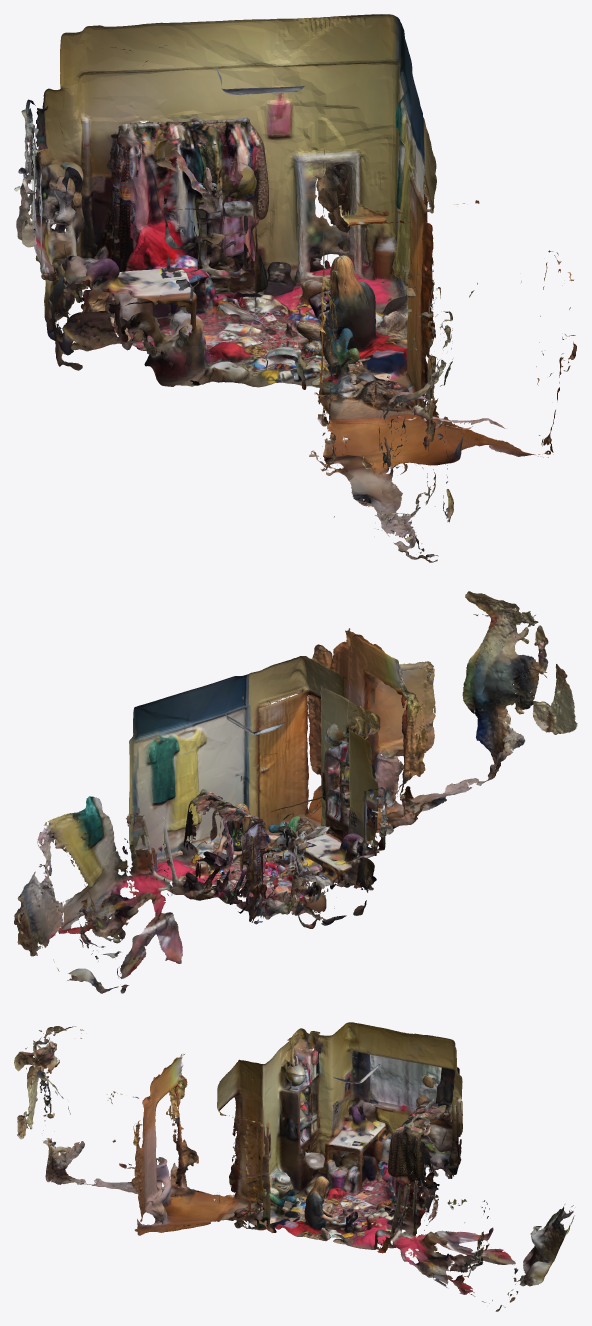
File: YURIA WEB.glb
3 renders of one model, top to bottom at view 1: azimuth 30°, elevation 25°; view 2: azimuth 150°, elevation 25°; view 3: azimuth 270°, elevation 25°, orthographic. The views are drawn at different scales.
Visible parts, largest first — view 1: mesh; view 2: mesh; view 3: mesh.
Part boxes in pixels (x1,y1,x2,y2): mesh: (14, 14, 576, 562); mesh: (14, 591, 577, 993); mesh: (14, 1022, 574, 1311).
Size of the model in its own units: 4.31 by 3.2 by 8.33.
Materials: 1 (1 with a texture image).
